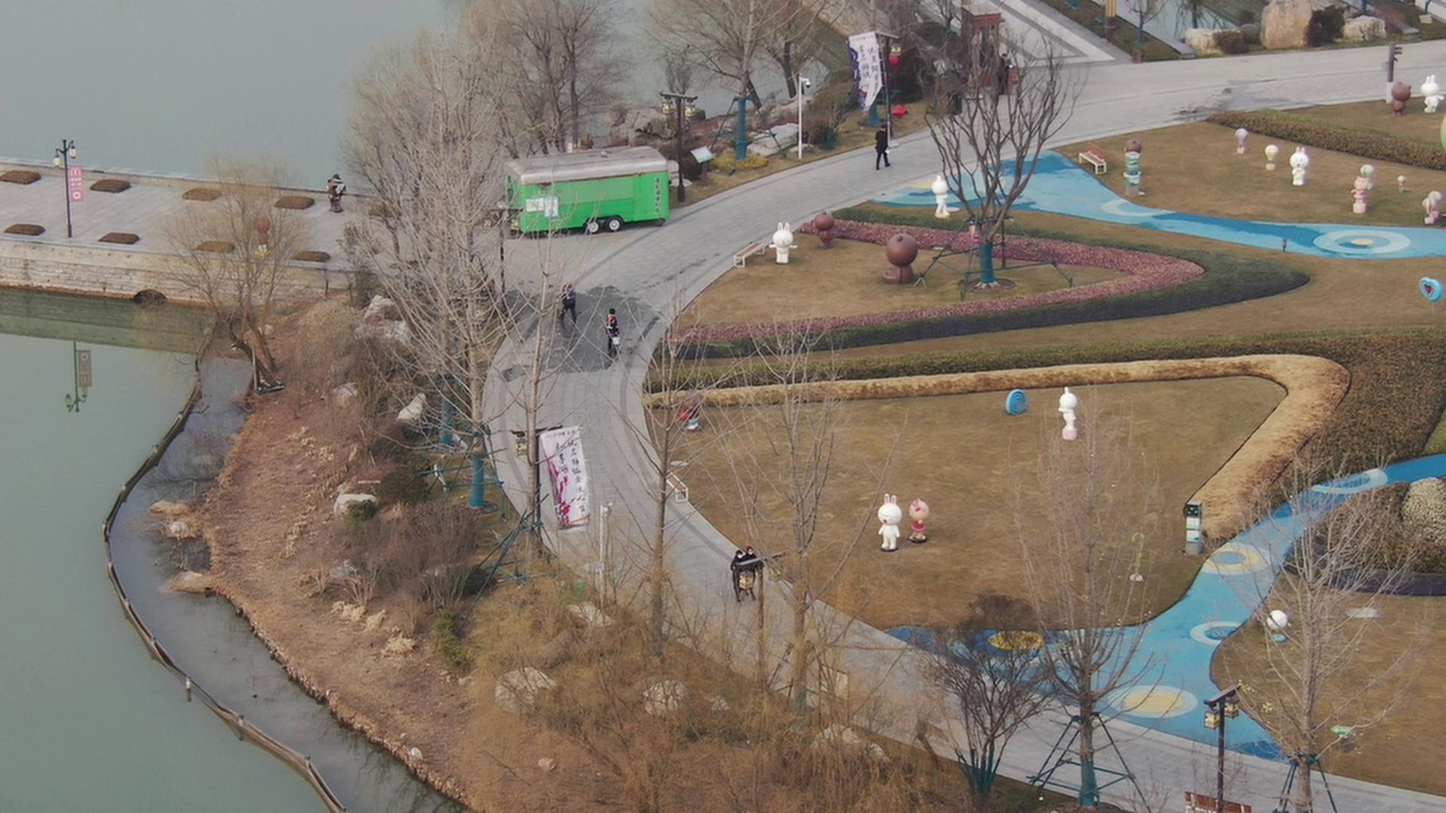class_2: (722, 538, 767, 604)
human: (859, 116, 891, 175), (598, 306, 623, 365), (555, 285, 578, 342)
